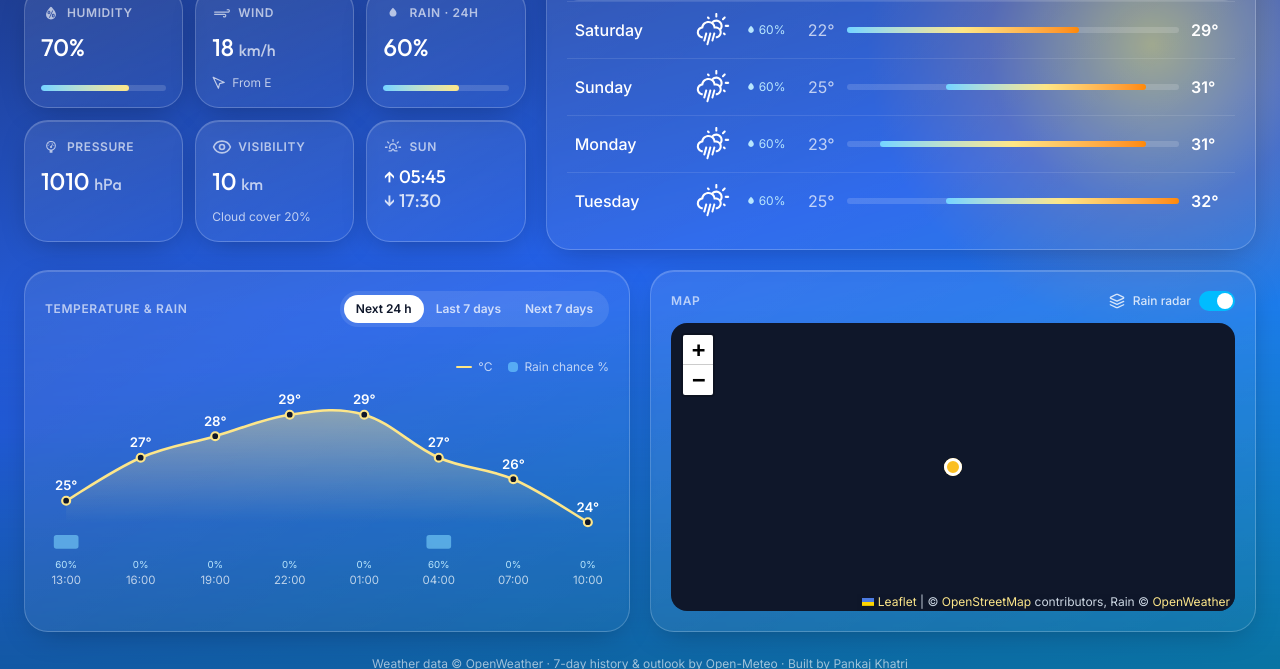
it: 7-day data failure shows an inline error with retry, rest of the page stays
The image size is (1280, 669).
(page scrolled)
What coordinates should you click on to do the following:
click the tab "Next 7 days"
I would click on:
 (559, 309)
Its box is [513,295,605,323].
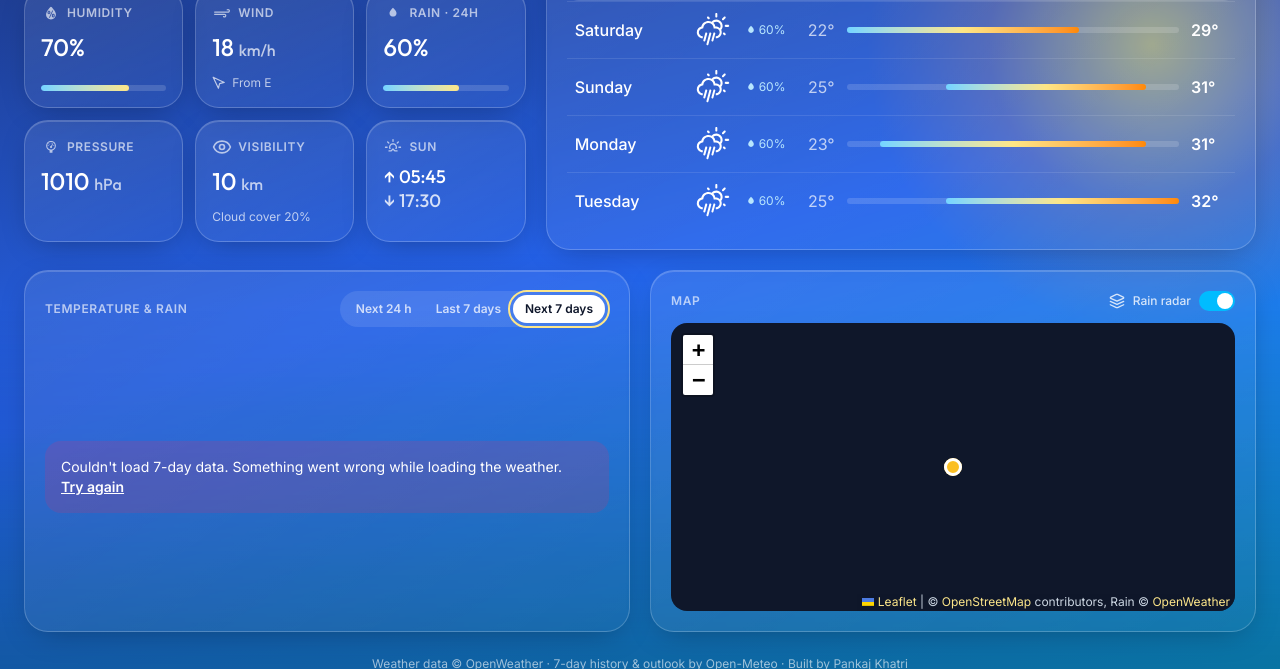
Expected: the message shows "Couldn't load 7-day data", [61,458,232,475]
What coordinates should you click on to do the following:
click the button "Try again"
I would click on:
 (93, 487)
Its box is [61,477,124,497].
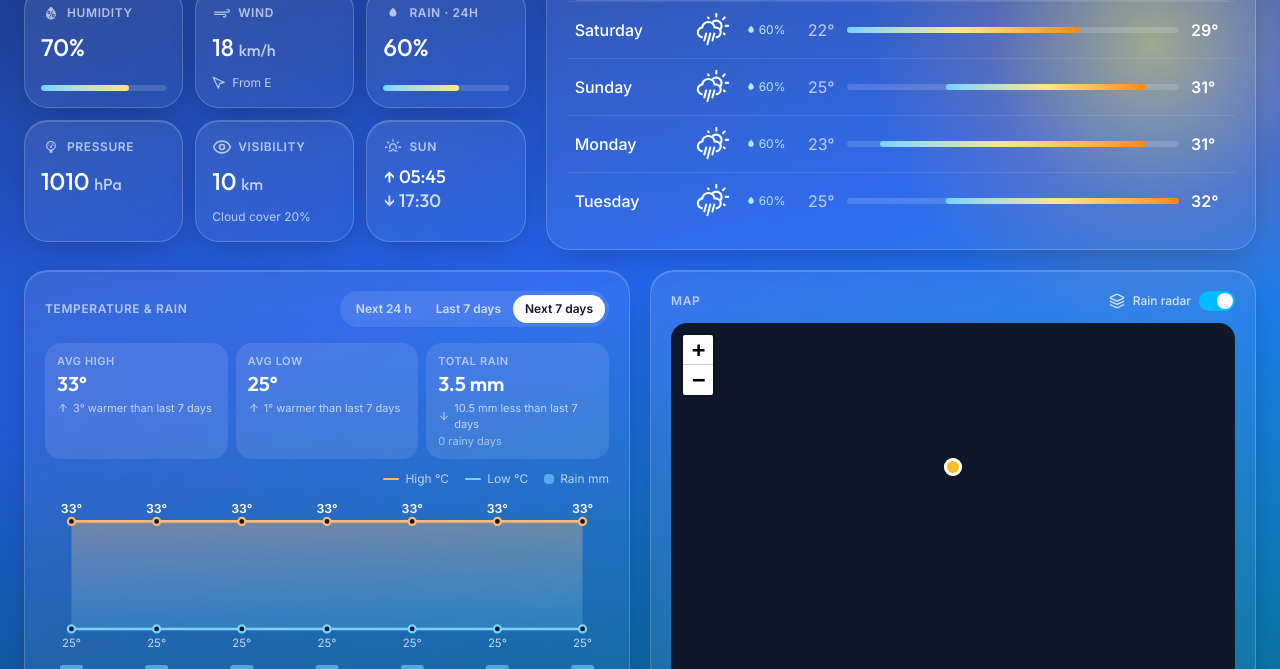
Expected: the element with test id "comparison" is shown, [45,343,609,459]
